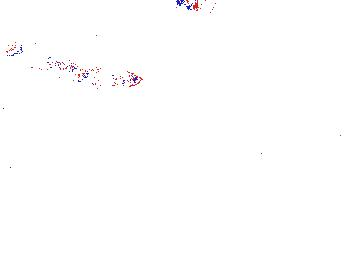X-ray fish: (286, 138, 319, 167), (175, 1, 228, 16)
glassfish: (194, 124, 295, 184)
redtail glassfish: (66, 67, 145, 93), (25, 51, 77, 77), (315, 121, 346, 143)
